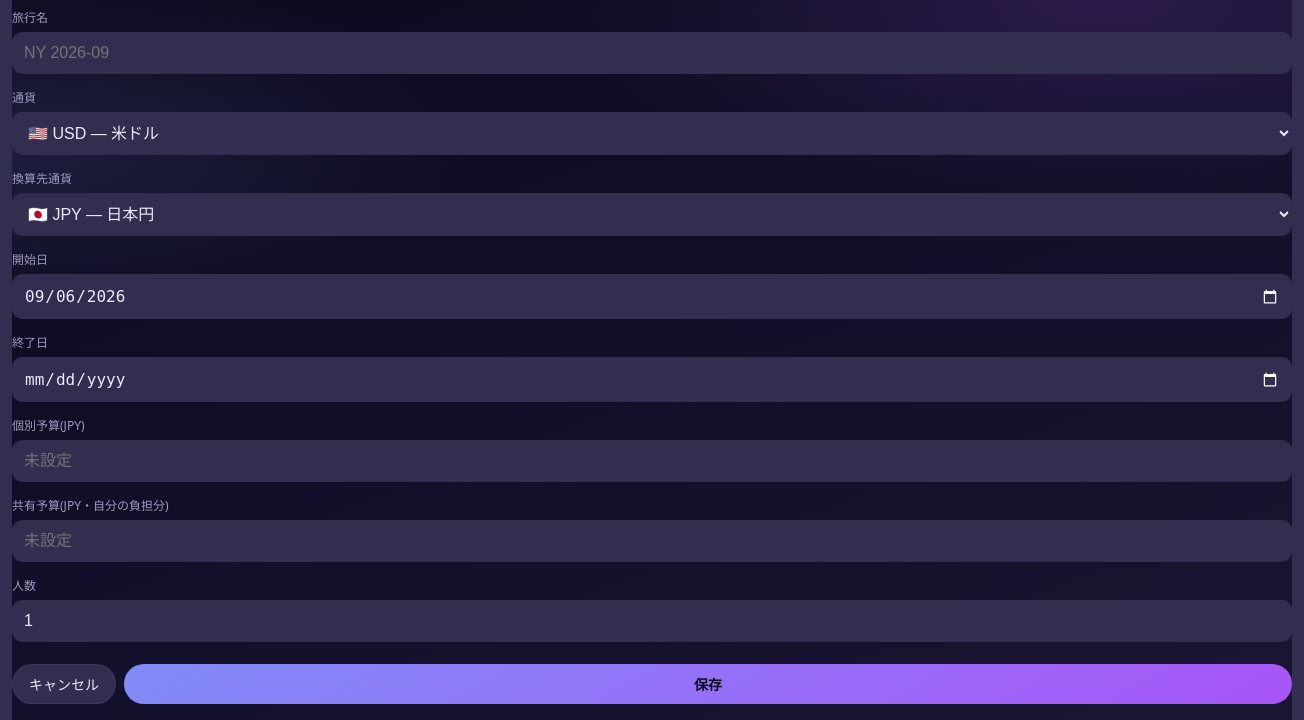
Test: TripForm › 換算先を小数 2 桁から 0 桁へ切り替えると予算欄が四捨五入される
Select "🇪🇺 EUR — ユーロ" in the dropdown labelled "換算先通貨" at (652, 214), box [12,193,1292,236]
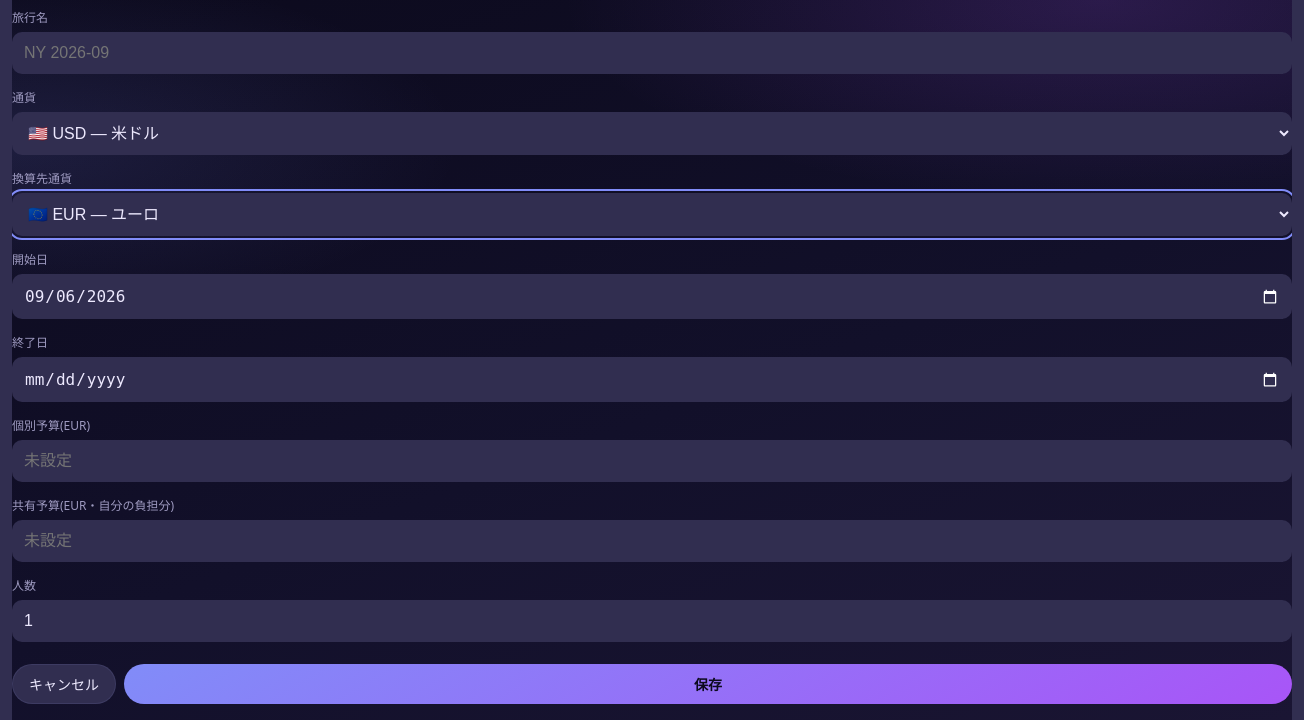
Type "500.55" into the field labelled "個別予算(EUR)" at (652, 461), box [12,440,1292,482]
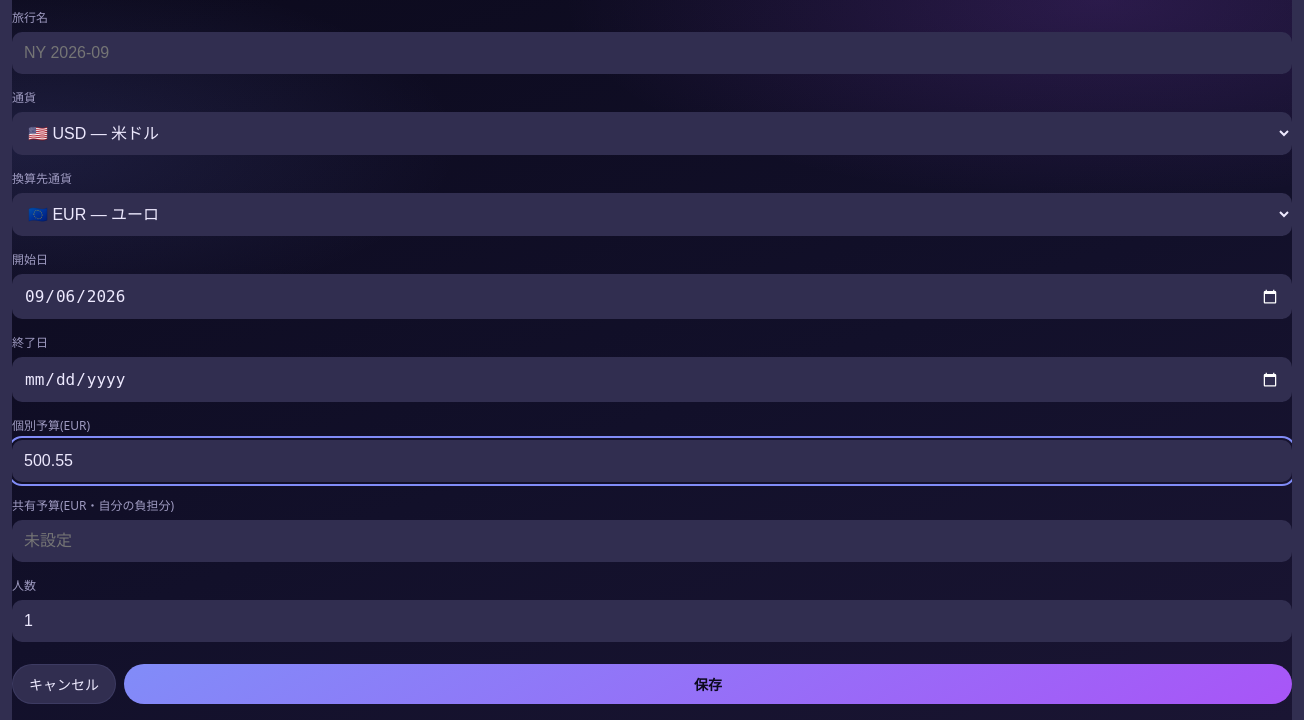
Select "JPY" in the dropdown labelled "換算先通貨" at (652, 214), box [12,193,1292,236]
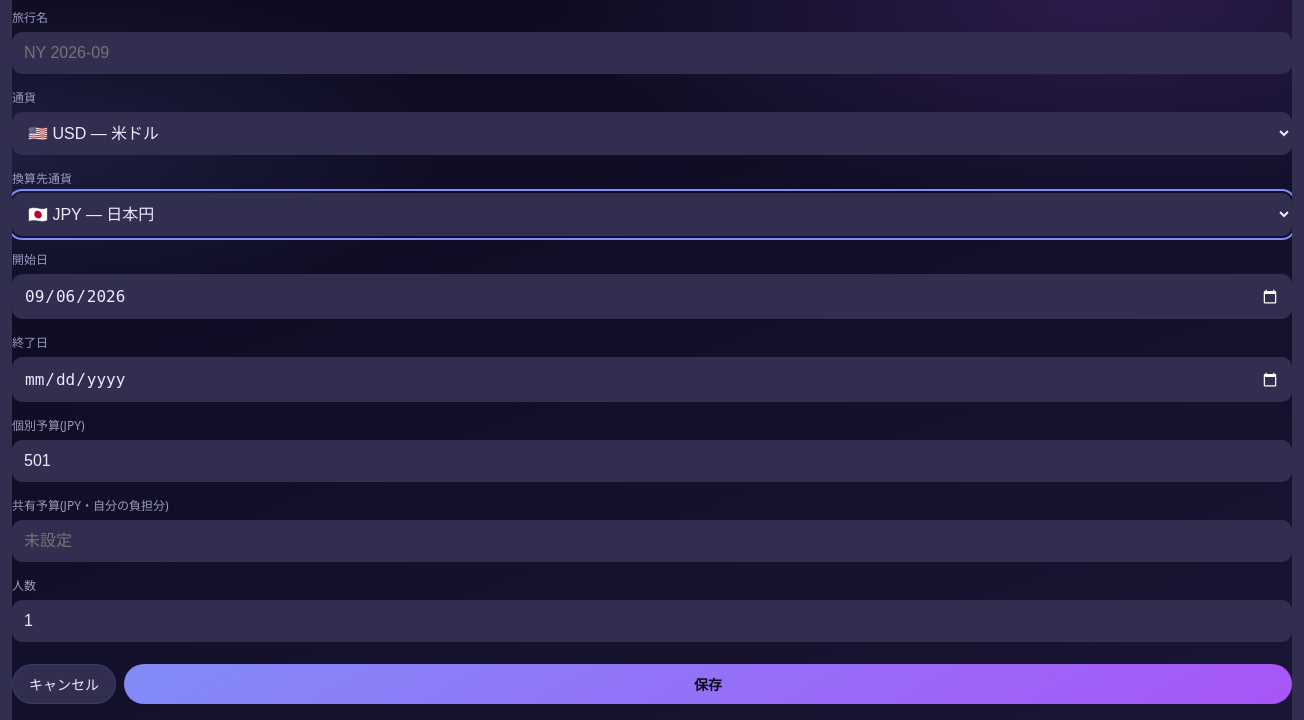
Expected: the field labelled "個別予算(JPY)" holds "501", [12,440,1292,482]
